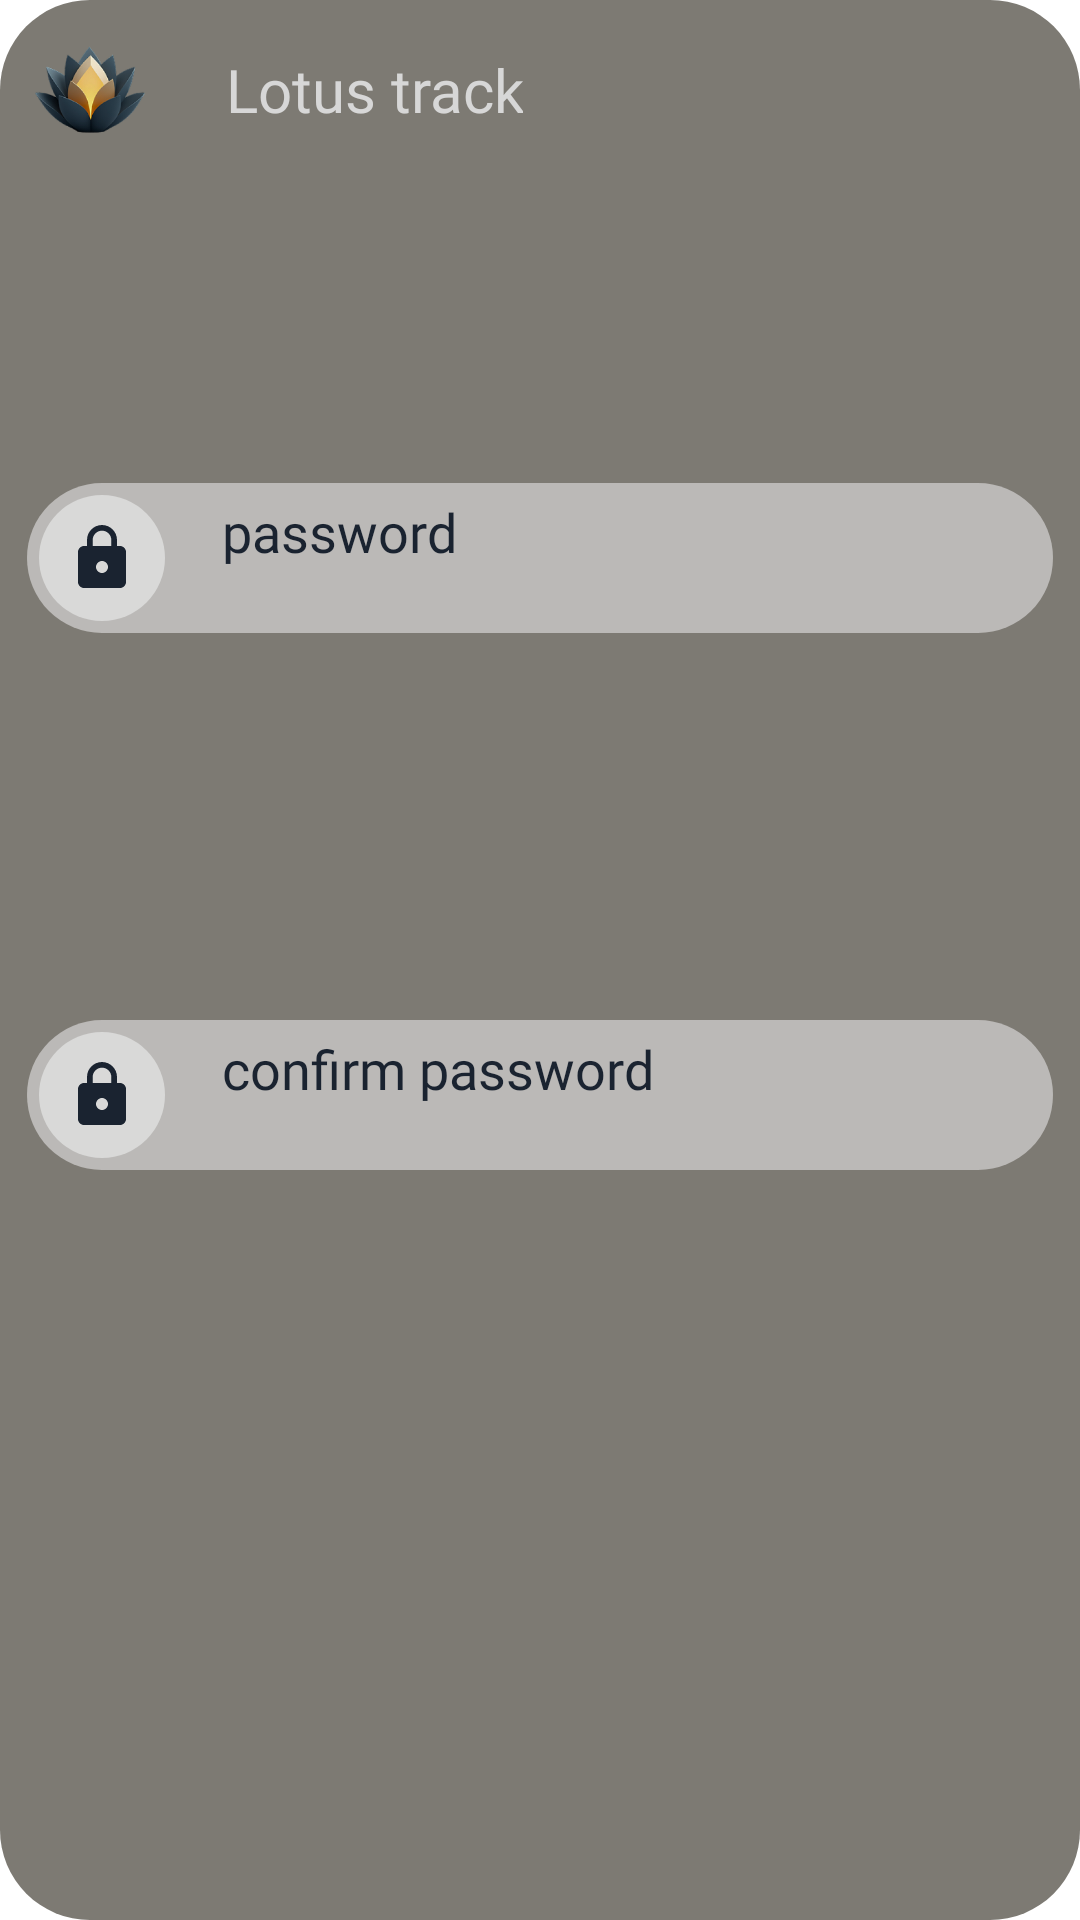

Point at icon controls on the screen. Image size 1080 × 1920, points as point (x, y).
lock: point (102, 556), point (102, 1093)
